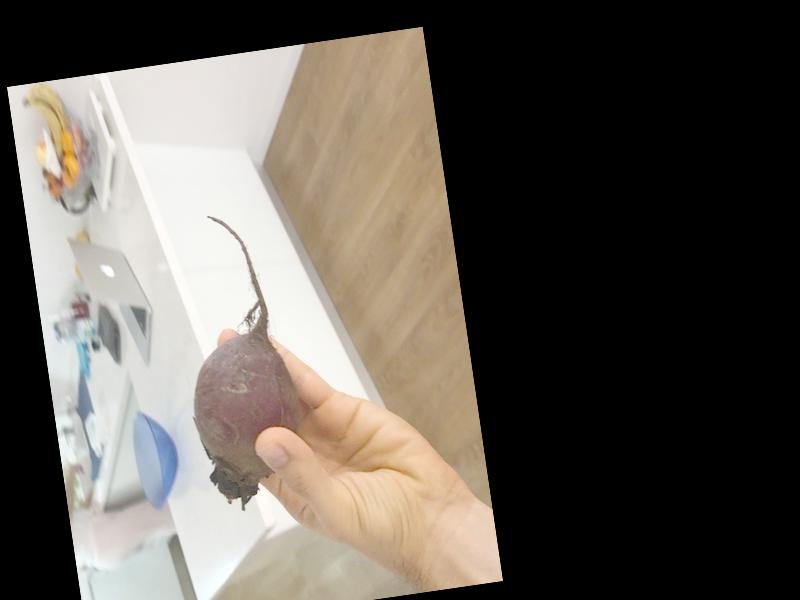Beet: (166, 207, 310, 512)
